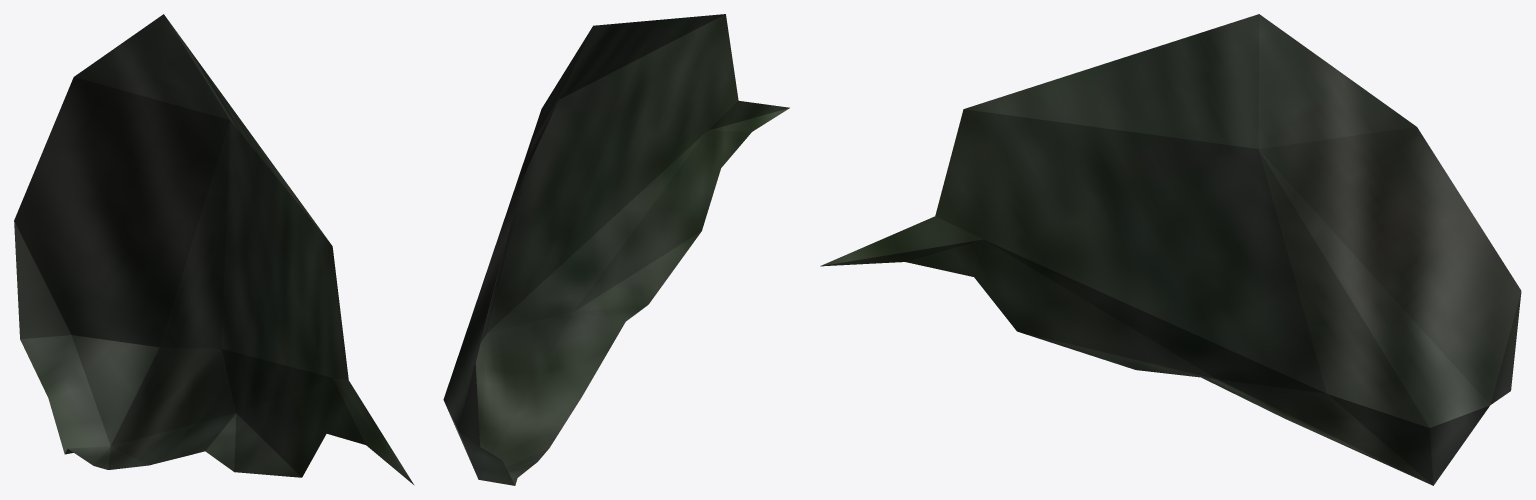
The picture shows the model from 3 angles, left to right: view 1: azimuth 30°, elevation 25°; view 2: azimuth 150°, elevation 25°; view 3: azimuth 270°, elevation 25°; orthographic projection. The views are drawn at different scales.
Bounding box in the file's own units: 0.1926 × 0.9844 × 1.39.
Materials: 1 (1 with a texture image).
